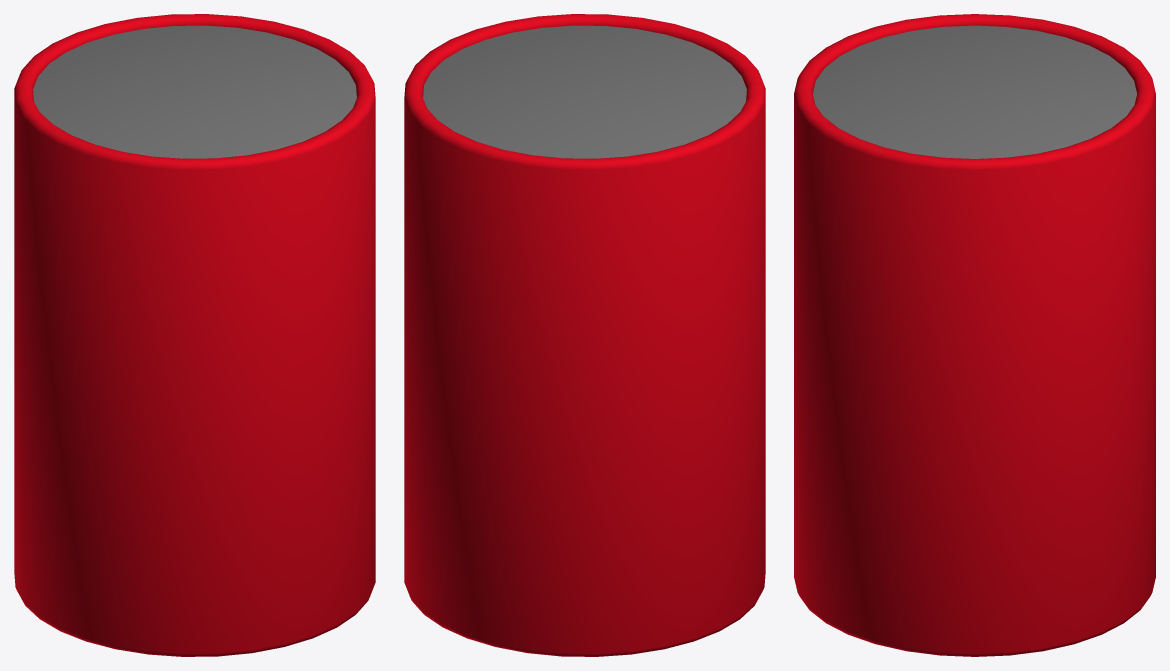
File: barrel_01_whole.glb
3 renders of one model, left to right at view 1: azimuth 30°, elevation 25°; view 2: azimuth 150°, elevation 25°; view 3: azimuth 270°, elevation 25°, orthographic.
Visible parts, largest first — view 1: barrel_01, barrel_01_lid; view 2: barrel_01, barrel_01_lid; view 3: barrel_01, barrel_01_lid.
Part boxes in pixels (x1,y1,x2,y2): barrel_01: (14, 14, 375, 656); barrel_01_lid: (33, 25, 356, 158); barrel_01: (404, 14, 765, 656); barrel_01_lid: (423, 25, 746, 158); barrel_01: (794, 14, 1155, 656); barrel_01_lid: (813, 25, 1136, 158).
Size of the model in its own units: 0.58 by 0.875 by 0.58.
